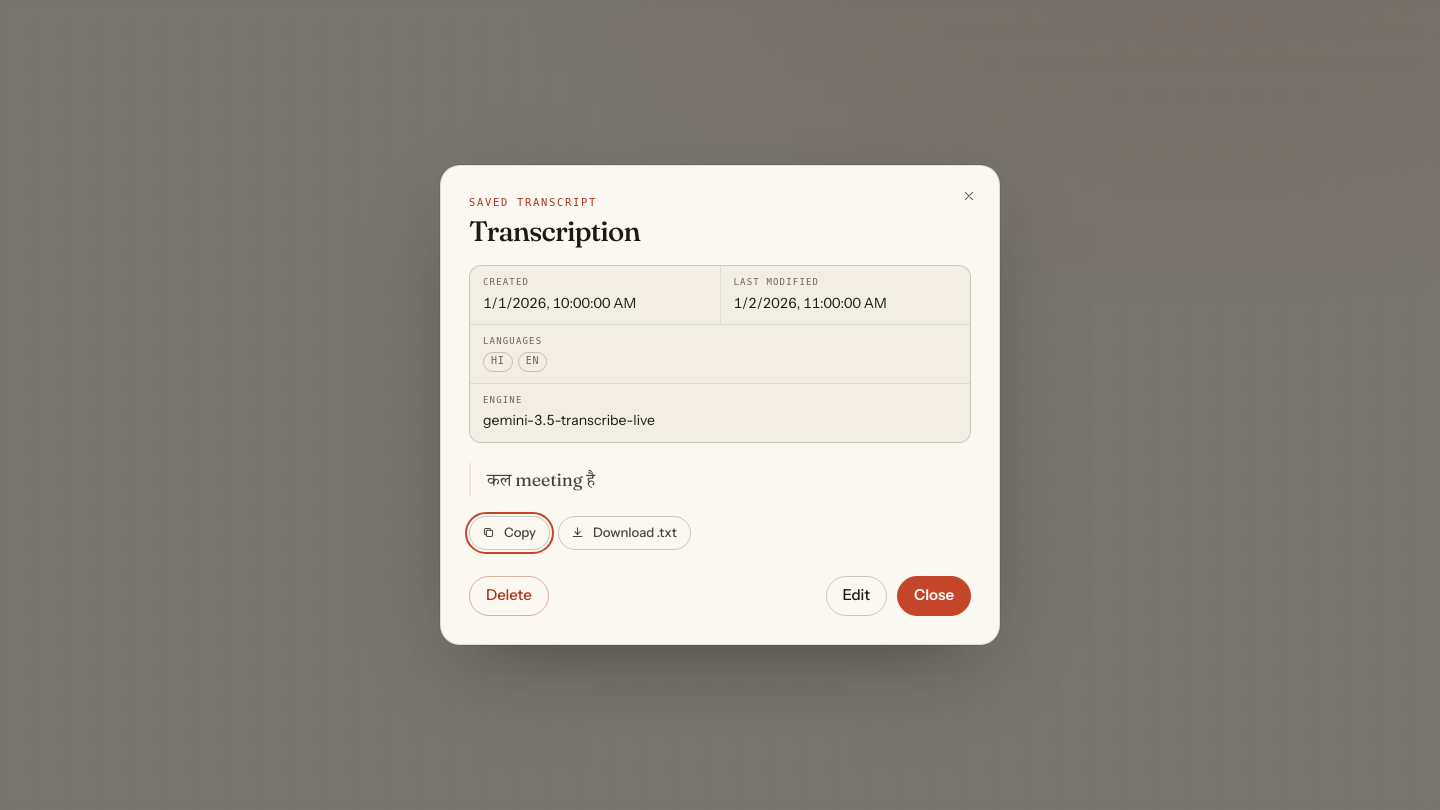
Test: EntryDialog › delete asks for confirmation; cancel leaves the entry intact
The width and height of the screenshot is (1440, 810).
Later steps or results of the test are not shown.
Click the button "Delete" at (509, 596), box [469,576,549,616]
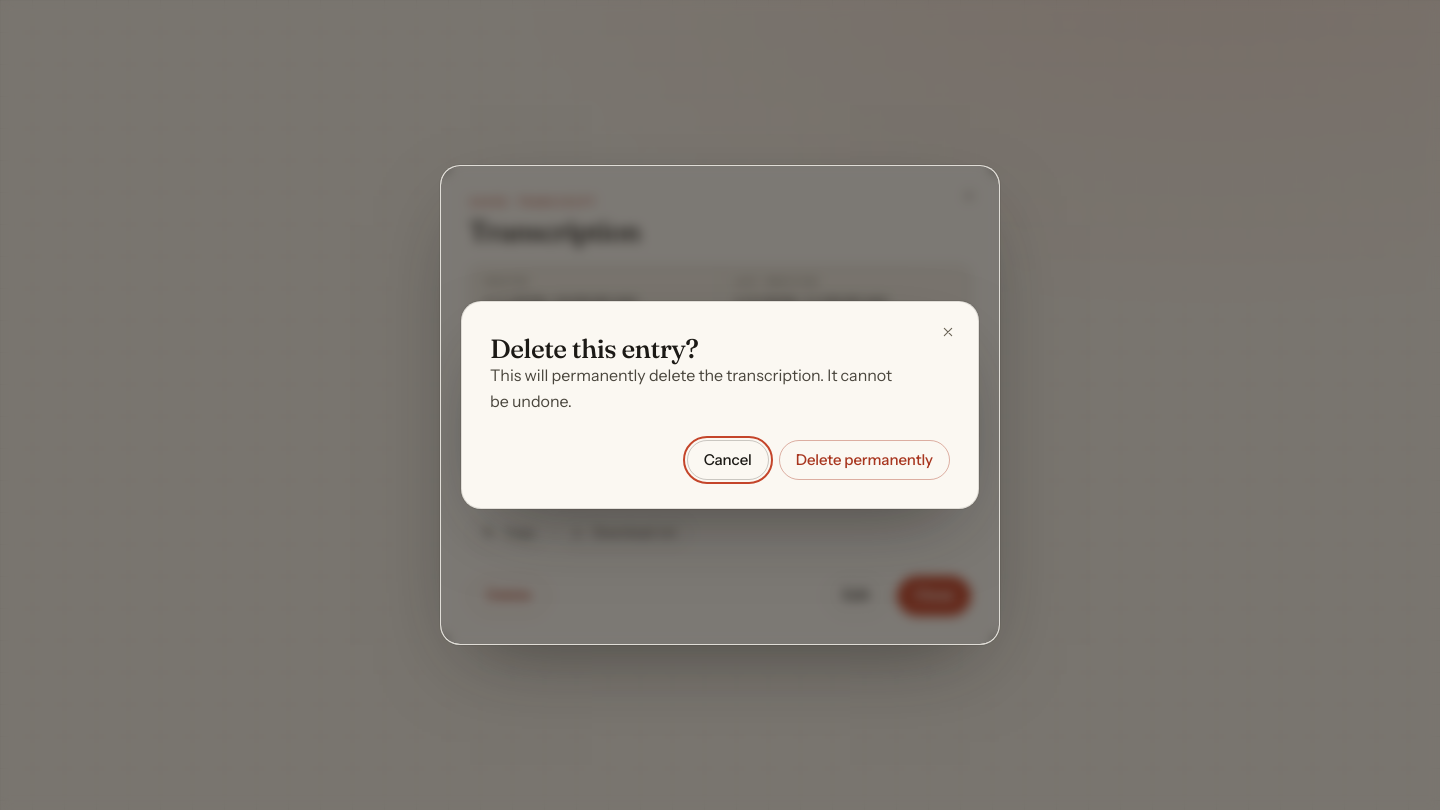
Now the dialog shows "permanently", box [490,365,892,410]
